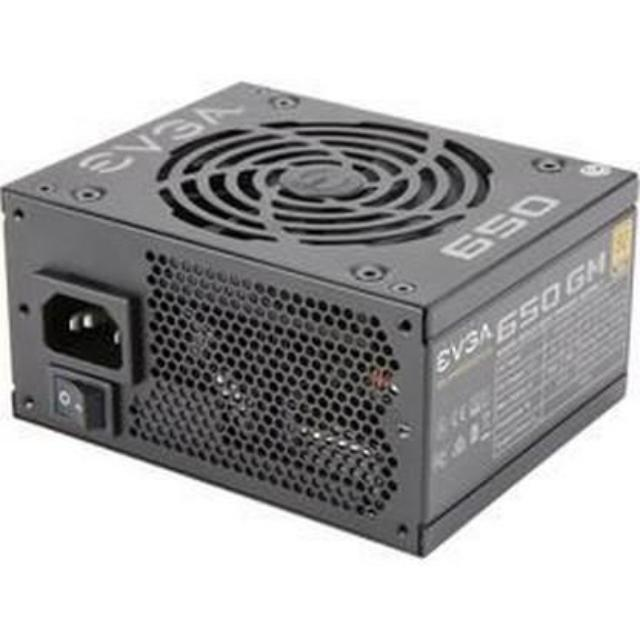PSU: (0, 78, 640, 564)
